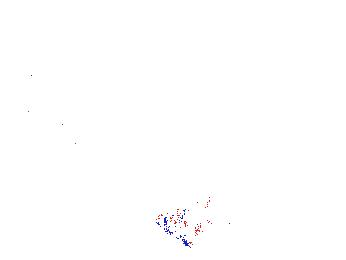X-ray fish: (154, 206, 236, 243), (22, 104, 38, 138)
